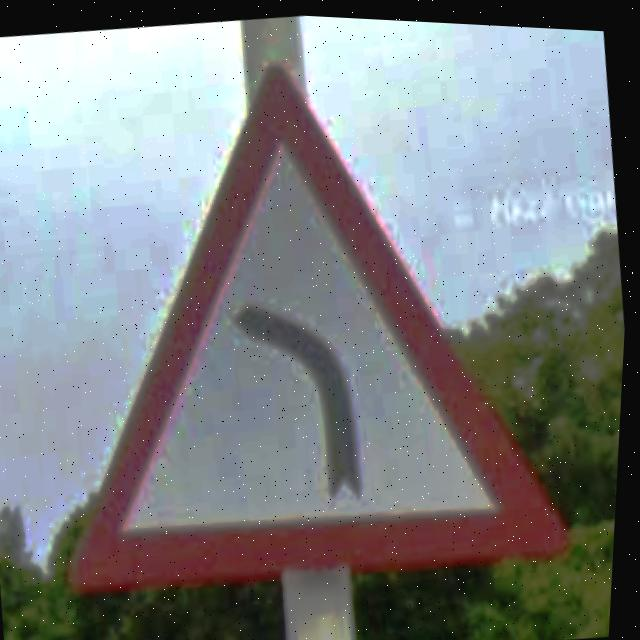leftbend: (76, 63, 574, 593)
